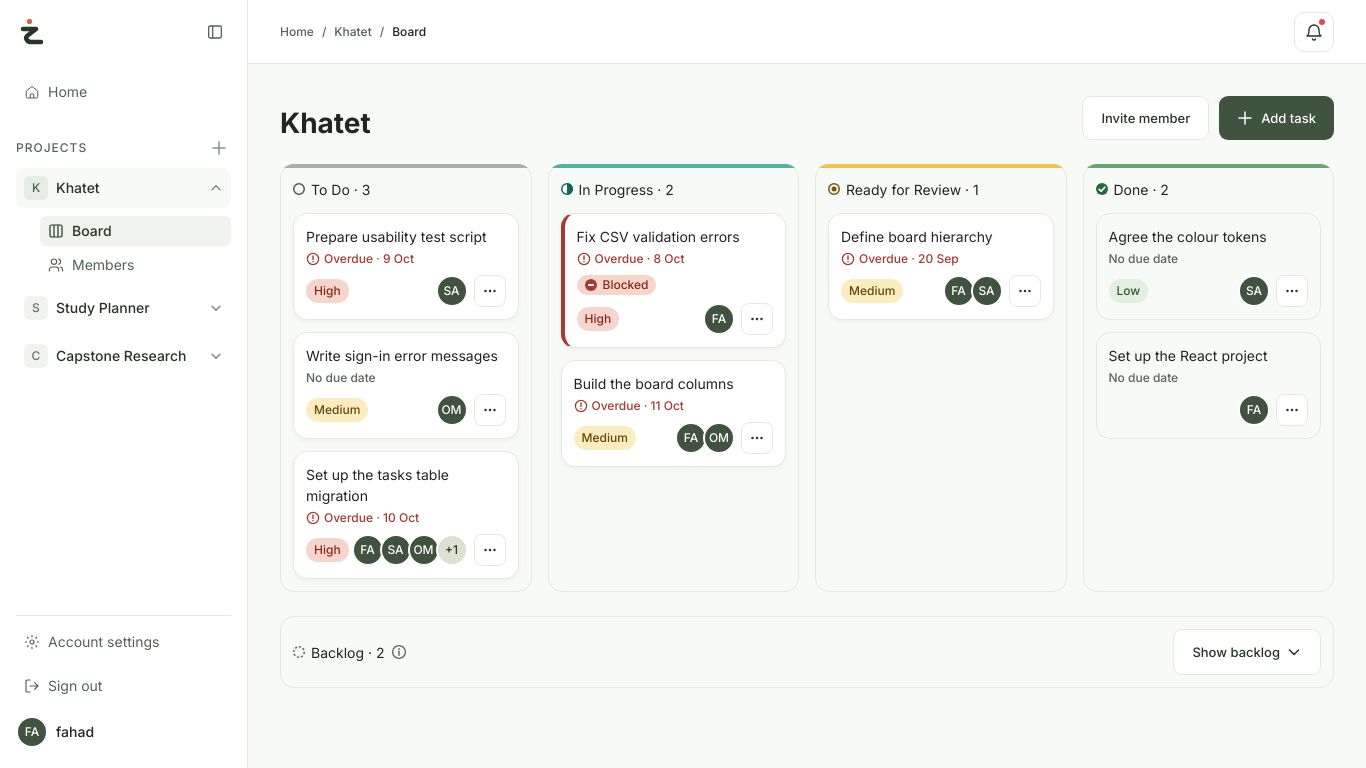
Scenario: board (US-16, US-21) › undoes a move and puts the card back in its place
Step 1. Click the button named "More actions for Prepare usability test script" → coordinates (490, 291), box [474,275,506,307]
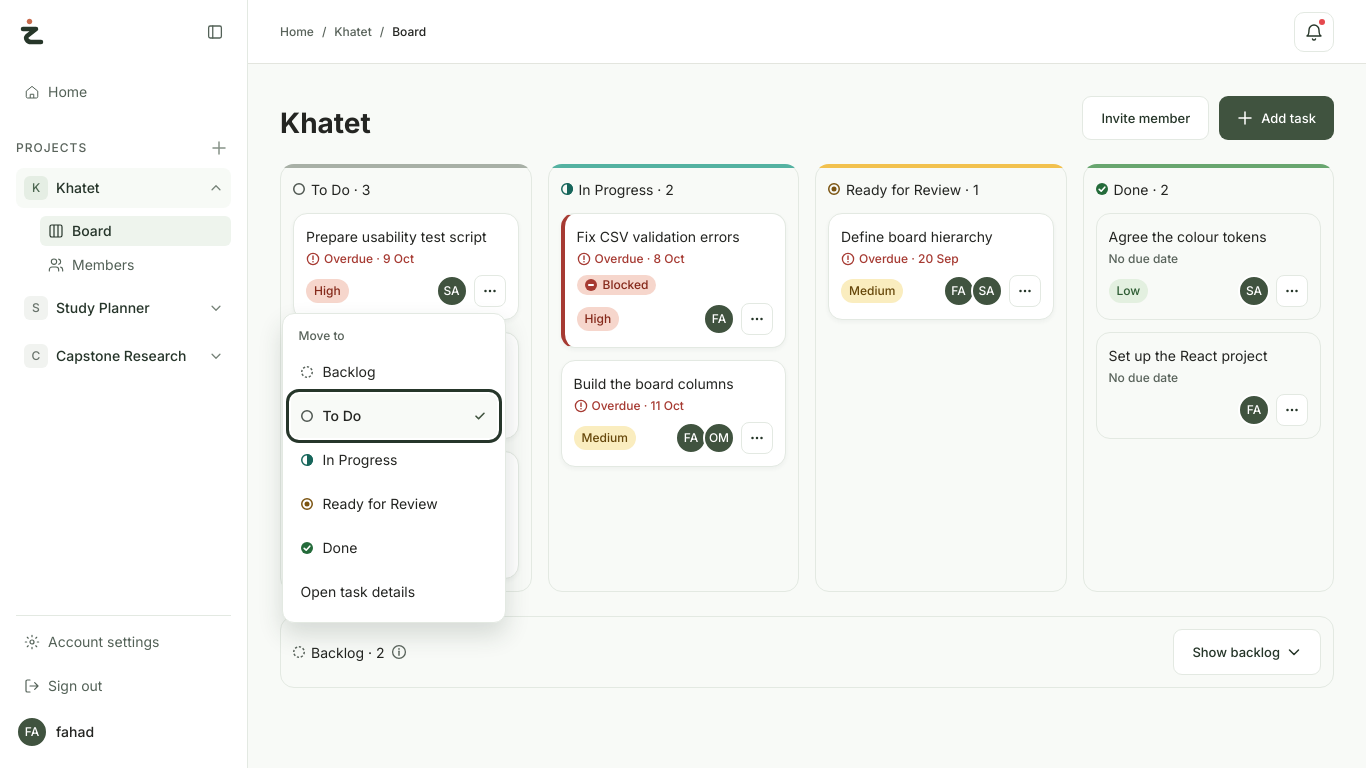
Step 2. Click the menu item "Done" → coordinates (394, 548), box [290,526,496,570]
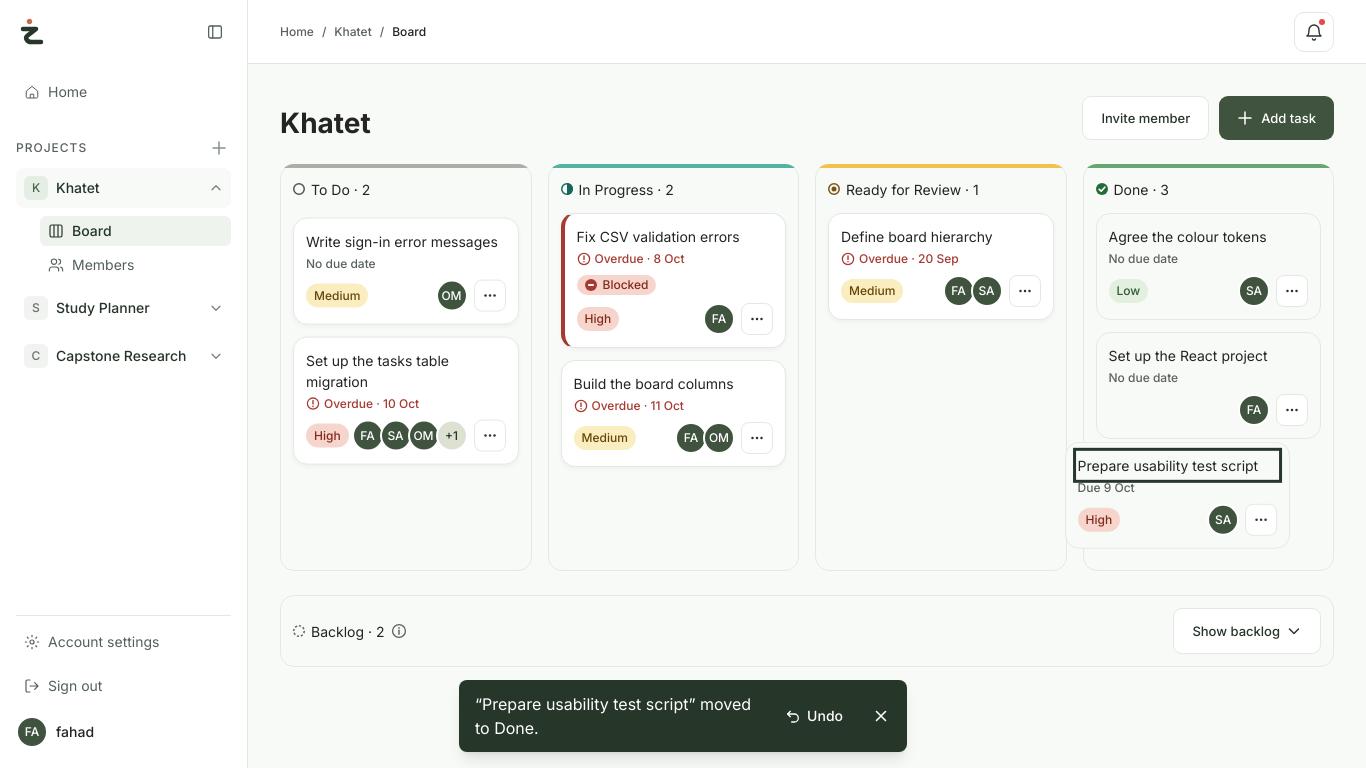
Step 3. Click the button "Undo" → coordinates (814, 716), box [773,694,855,738]
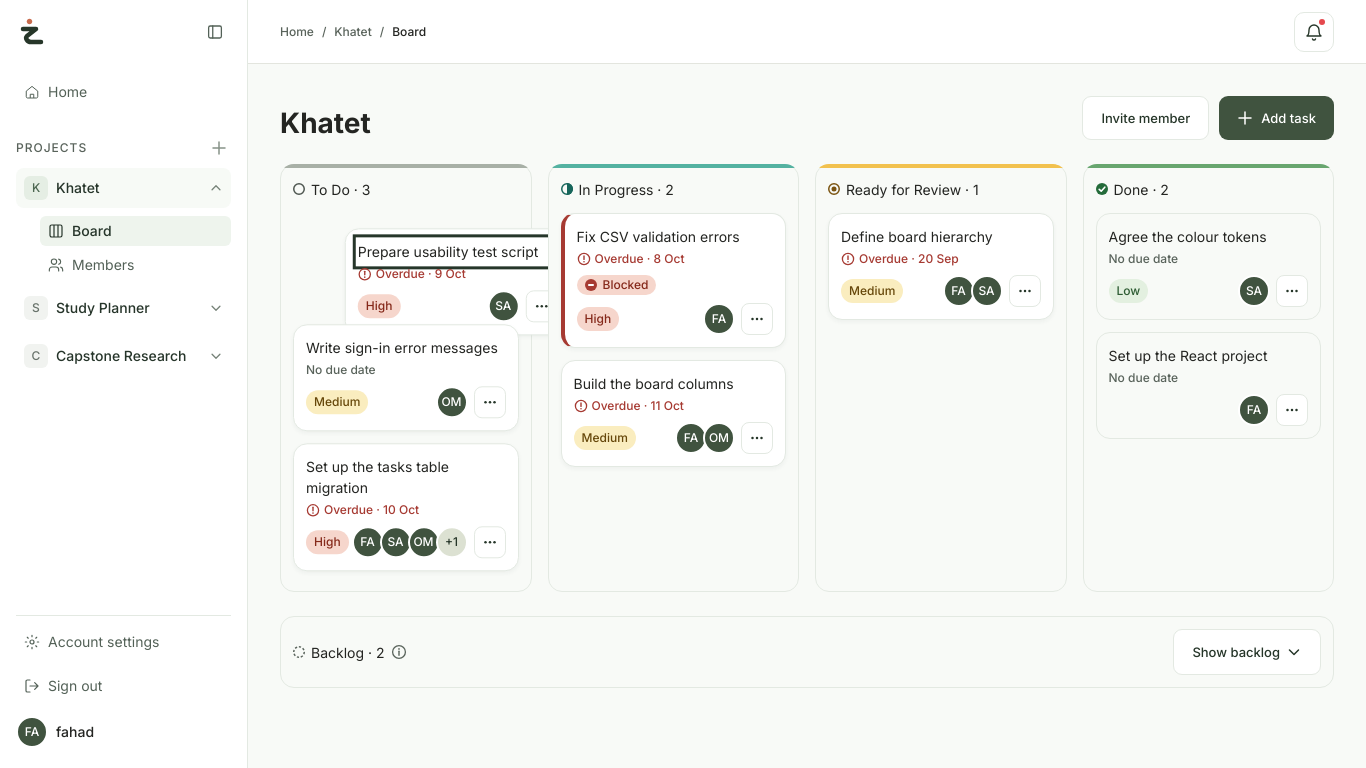
Check: the heading "Prepare usability test script" is shown, box [324,231,523,252]
Check: the button "Undo" is gone
